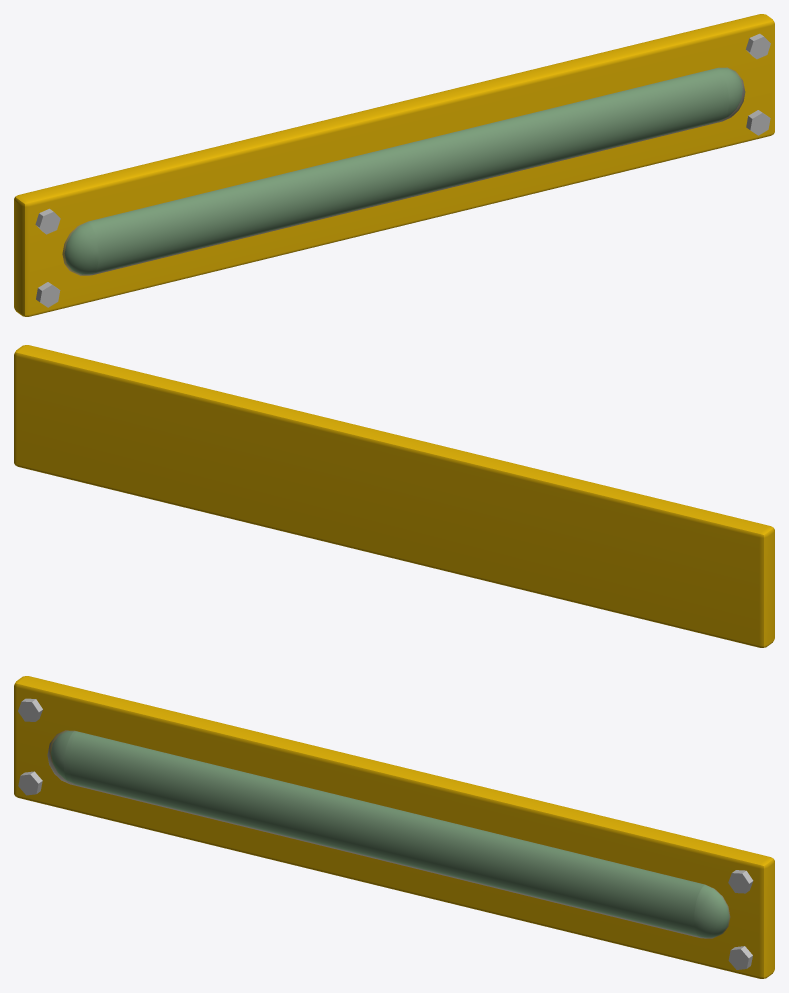
File: samo kanister energije.fbx
3 views of the same model, one above another, from view 1: azimuth 30°, elevation 25°; view 2: azimuth 150°, elevation 25°; view 3: azimuth 330°, elevation 25° (orthographic).
Parts seen in each view (by area): view 1: Kanister_ram, Kanister_energija5, Kanister_energija4, Kanister_energija1, Kanister_energija3, Kanister_energija2; view 2: Kanister_ram; view 3: Kanister_ram, Kanister_energija5, Kanister_energija4, Kanister_energija3, Kanister_energija1, Kanister_energija2.
Part boxes in pixels (<box>): Kanister_ram: <box>14,14,774,316</box>; Kanister_energija5: <box>208,68,742,234</box>; Kanister_energija4: <box>113,100,592,245</box>; Kanister_energija1: <box>65,198,201,274</box>; Kanister_energija3: <box>103,135,451,268</box>; Kanister_energija2: <box>96,174,311,260</box>; Kanister_ram: <box>14,345,774,647</box>; Kanister_ram: <box>14,676,774,978</box>; Kanister_energija5: <box>121,761,728,937</box>; Kanister_energija4: <box>122,751,572,902</box>; Kanister_energija3: <box>103,748,427,868</box>; Kanister_energija1: <box>51,731,181,807</box>; Kanister_energija2: <box>79,736,290,829</box>.
Size of the model in its own units: 5.54 by 0.8187 by 0.3024.
